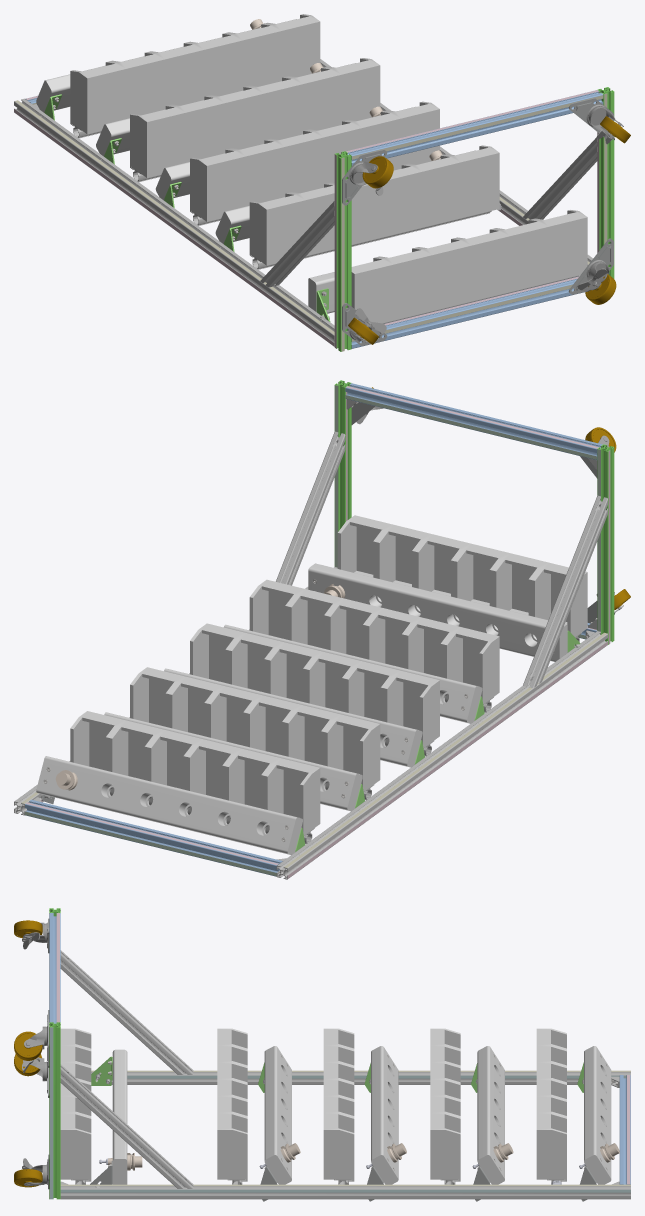
Rendered from toolrack.glb.
3 renders of one model, top to bottom at view 1: azimuth 30°, elevation 25°; view 2: azimuth 150°, elevation 25°; view 3: azimuth 270°, elevation 25°, orthographic. The views are drawn at different scales.
Parts seen in each view (by area): view 1: Geode; view 2: Geode; view 3: Geode.
Part boxes in pixels (x1=…): Geode: x1=14, y1=14, x2=630, y2=351; Geode: x1=14, y1=380, x2=630, y2=879; Geode: x1=14, y1=908, x2=630, y2=1201.
Size of the model in its own units: 750 by 525 by 1623.
